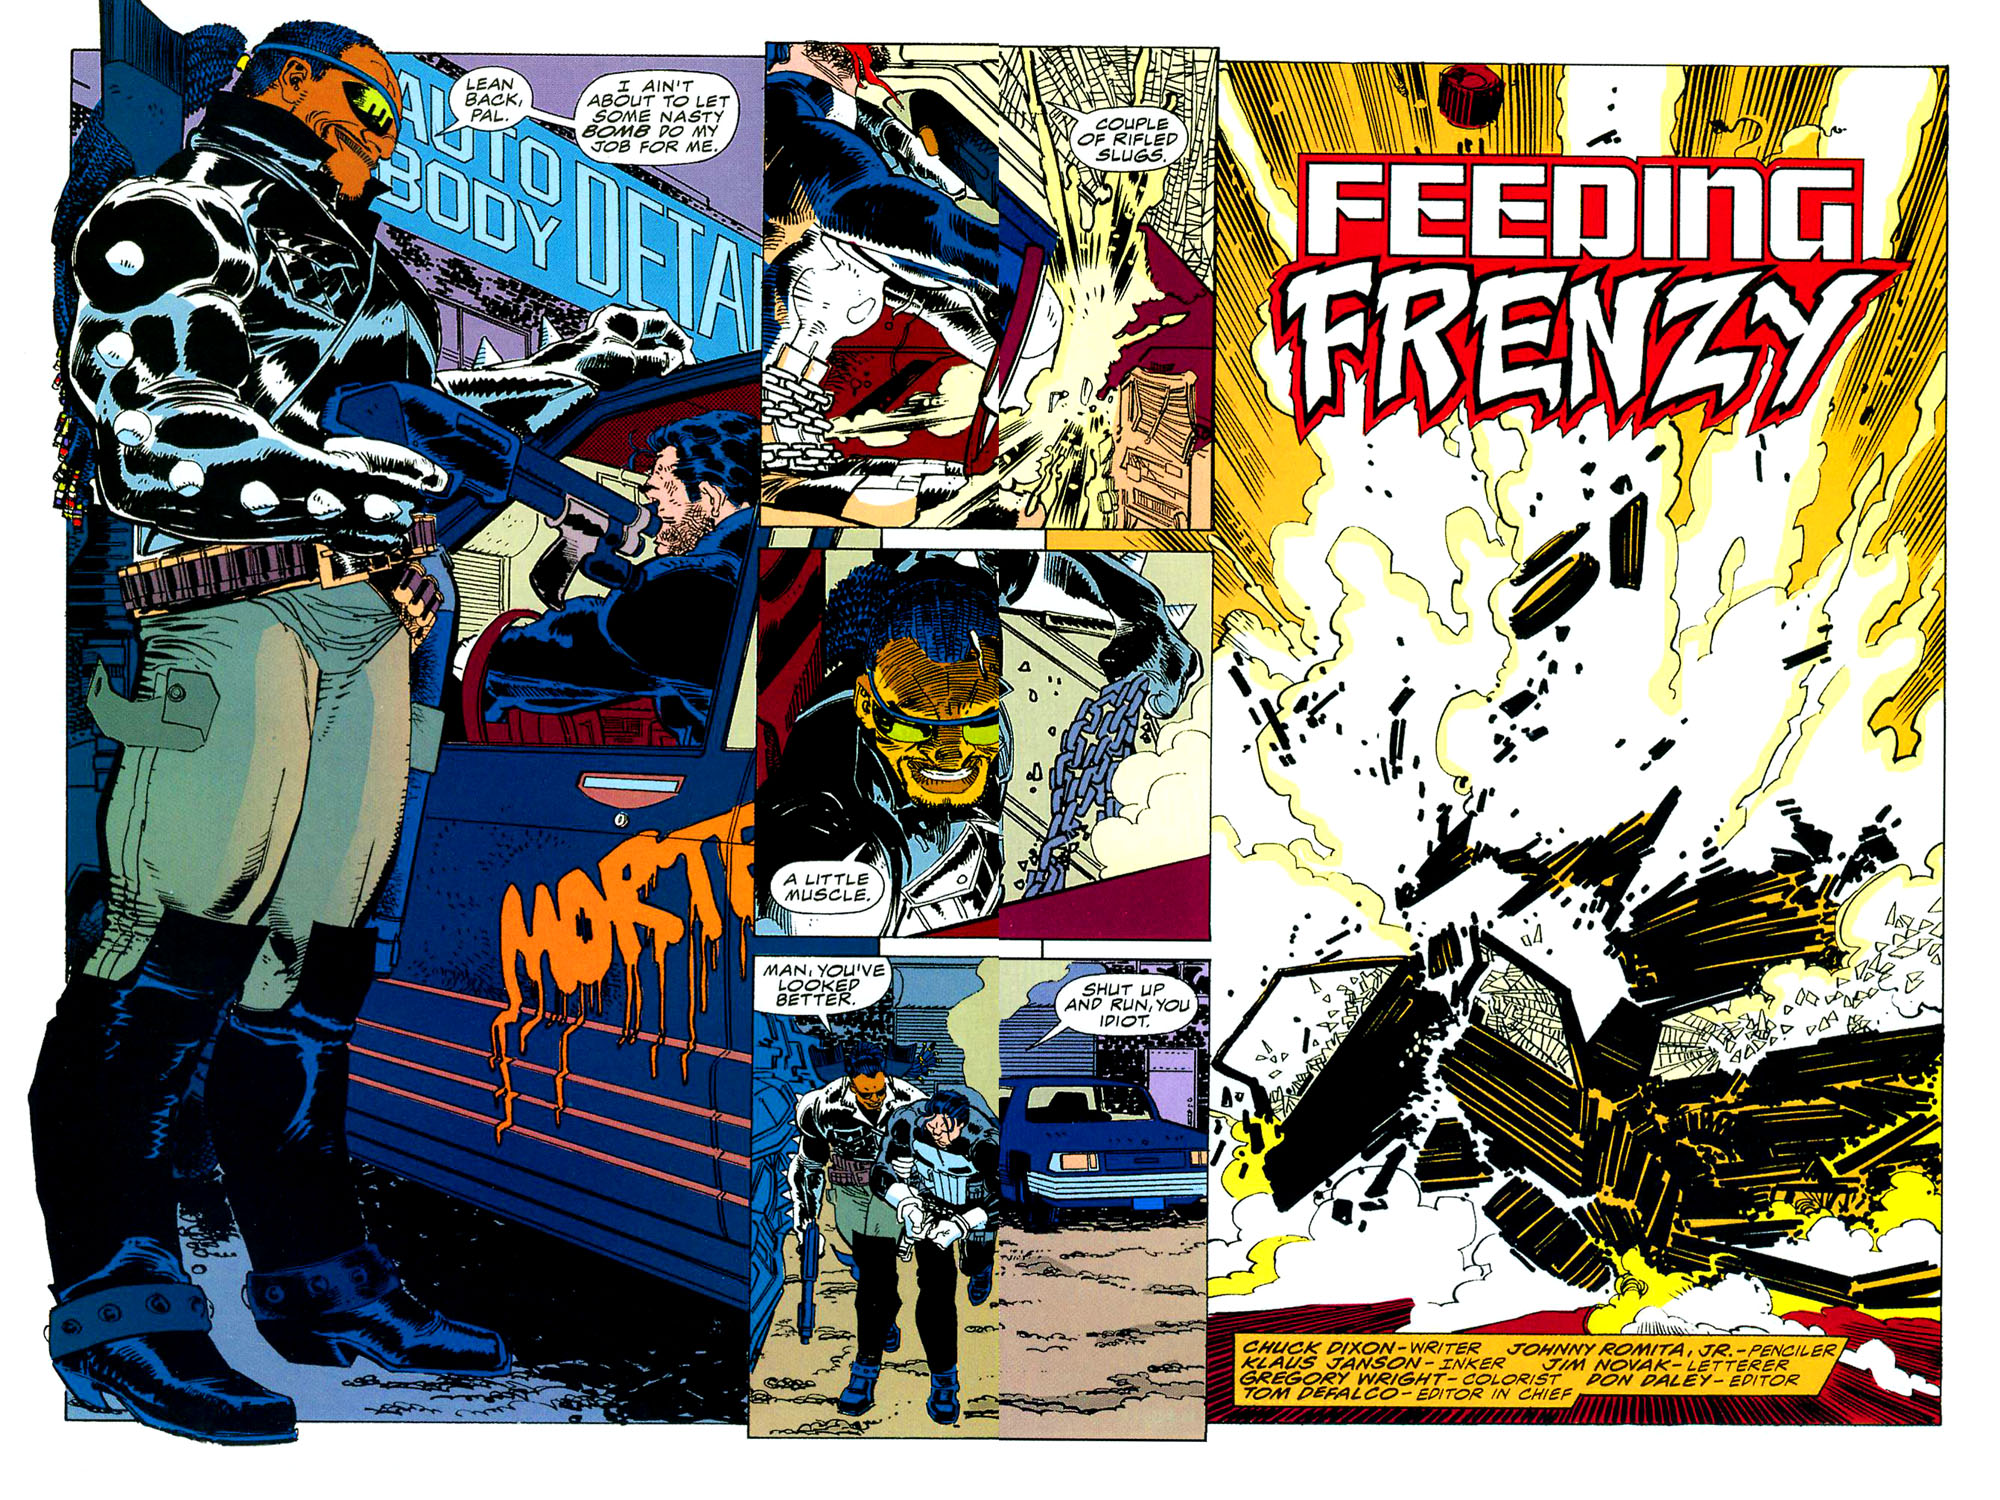Baloon: (565, 61, 735, 162), (1030, 972, 1195, 1057), (1055, 98, 1194, 176), (754, 953, 901, 1023), (769, 848, 885, 933), (435, 61, 532, 145)
Vignetta: (46, 2, 762, 1428), (1213, 63, 1946, 1424), (762, 36, 1219, 531), (753, 953, 1206, 1446), (757, 545, 1209, 942)
